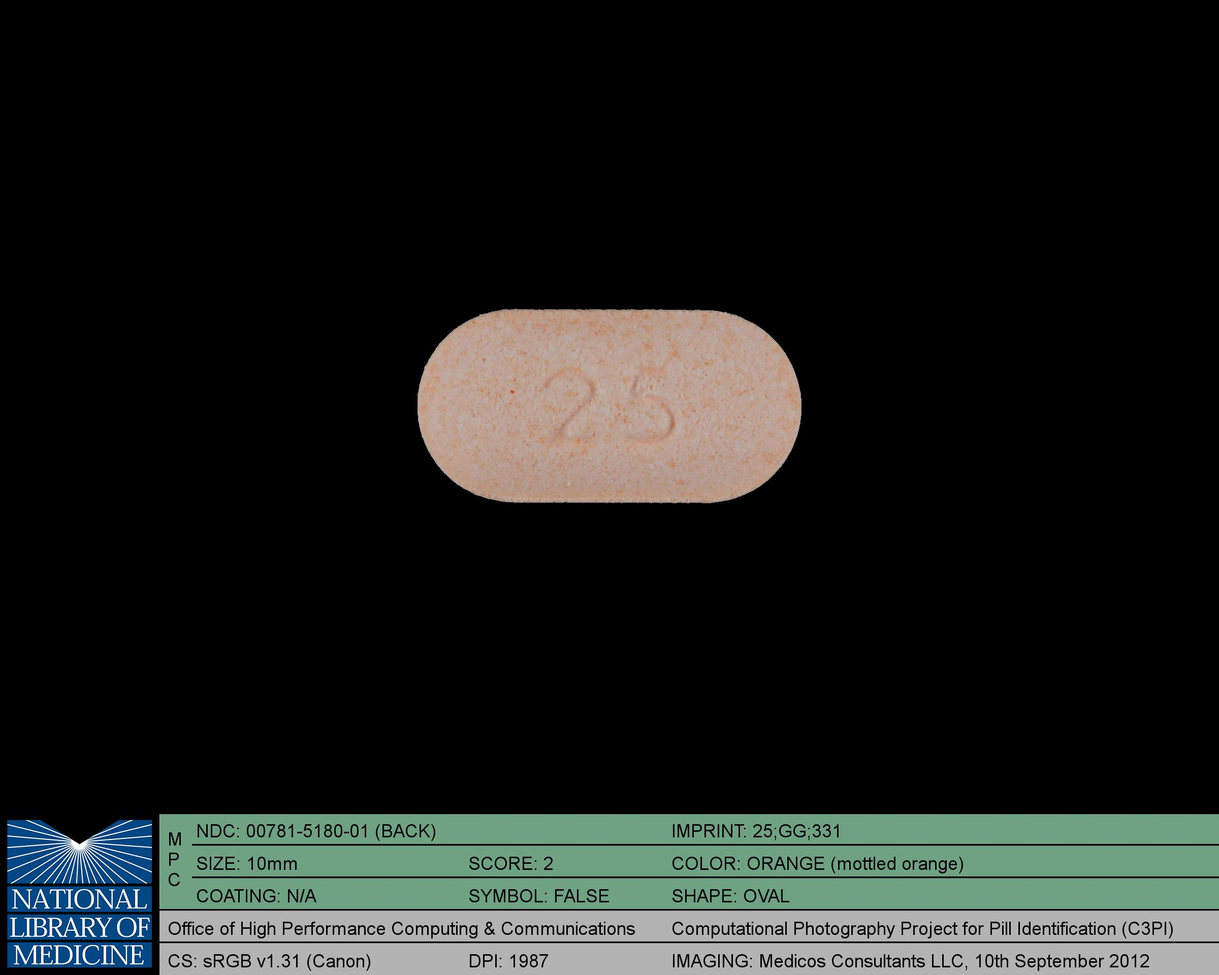Pill: (406, 296, 814, 516)
